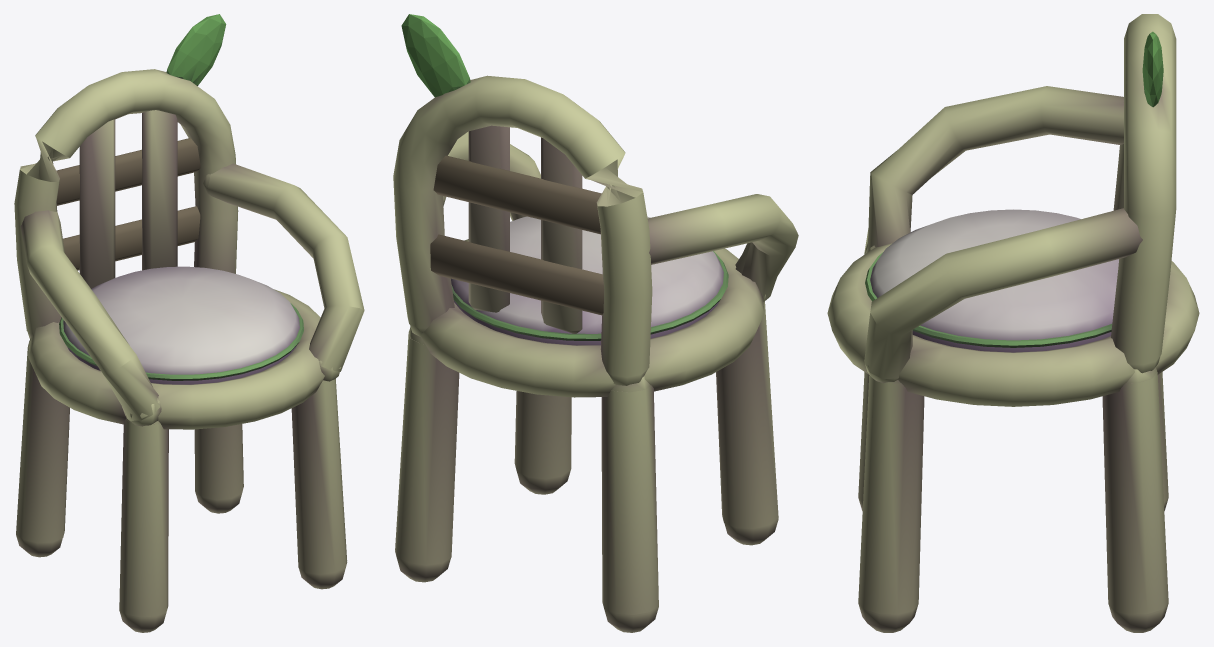
File: chair_garden.glb
3 renders of one model, left to right at view 1: azimuth 30°, elevation 25°; view 2: azimuth 150°, elevation 25°; view 3: azimuth 270°, elevation 25°, orthographic. The views are drawn at different scales.
Parts seen in each view (by area): view 1: chair_garden; view 2: chair_garden; view 3: chair_garden.
Part boxes in pixels (box(x1,y1,x2,y2)): chair_garden: box(14, 14, 364, 632); chair_garden: box(393, 14, 798, 632); chair_garden: box(827, 14, 1199, 632).
Size of the model in its own units: 0.6837 by 1.13 by 0.6399.
